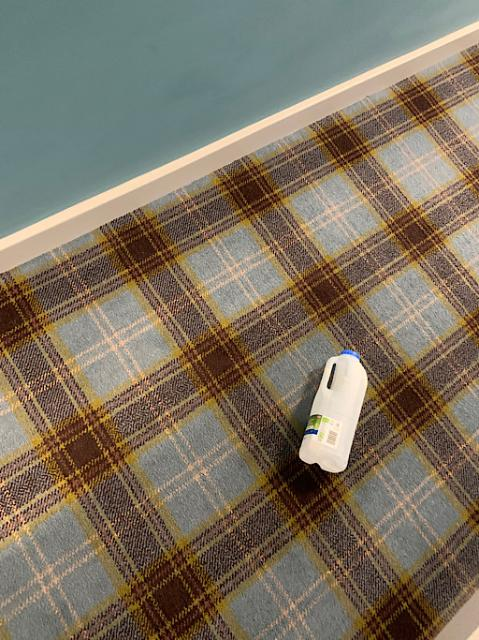plastic: (299, 350, 366, 470)
